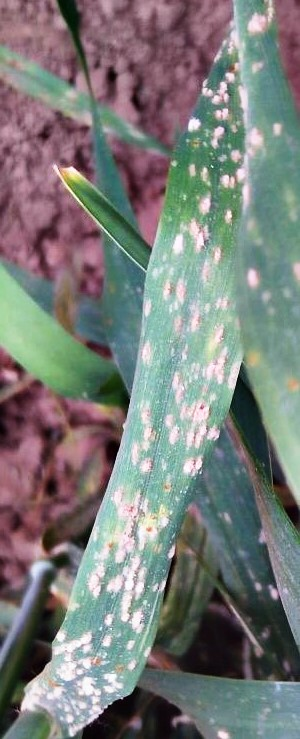Powdery Mildew: (78, 80, 263, 677)
